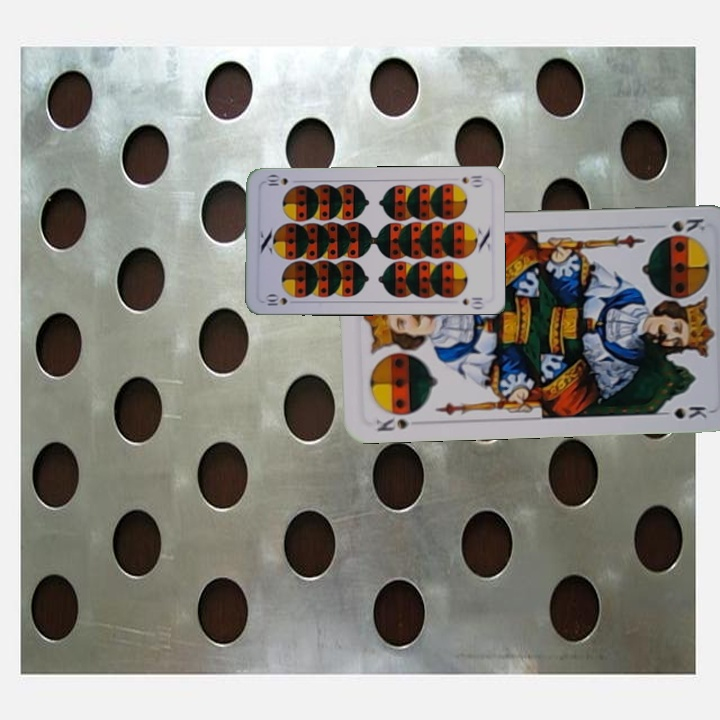S10: (262, 291, 300, 308), (457, 172, 486, 189)
SK: (371, 413, 412, 435), (667, 214, 709, 235)
